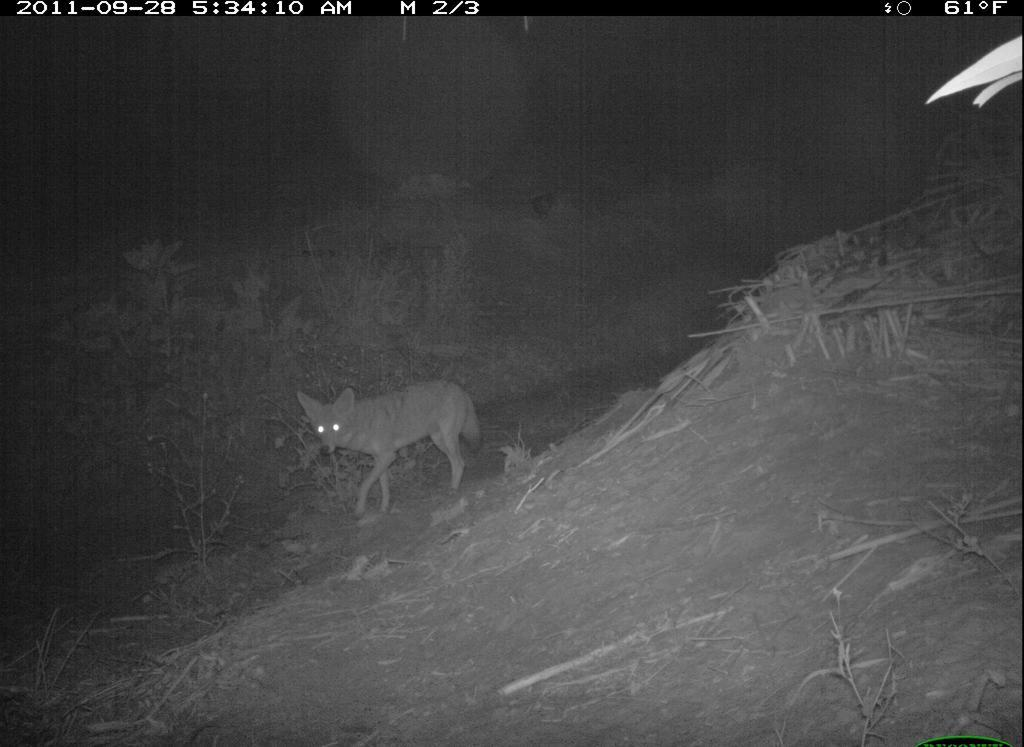coyote: (295, 365, 486, 537)
